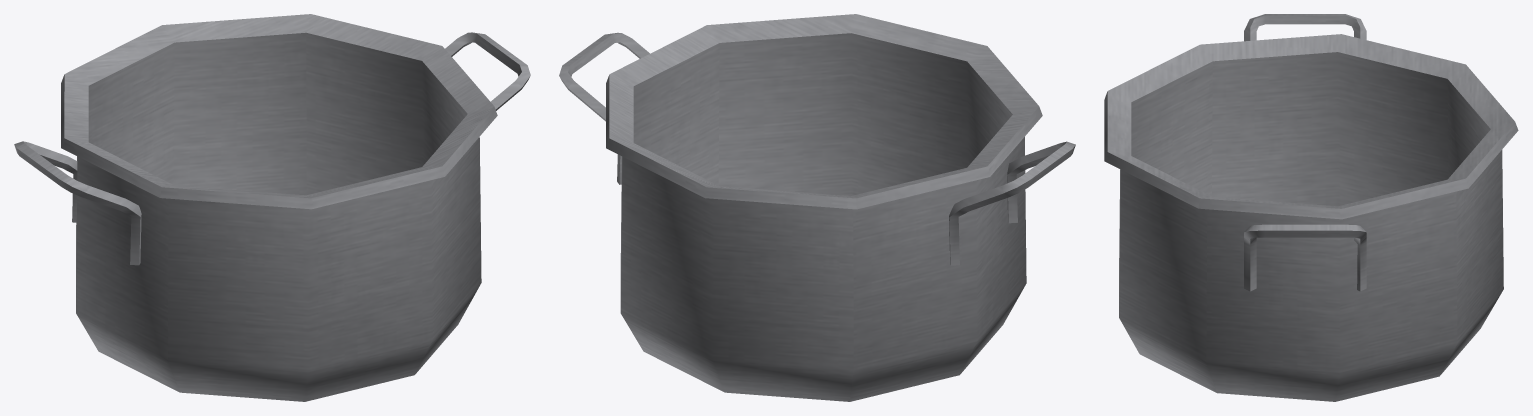
Rendered from Cooking_pot_02.glb.
3 renders of one model, left to right at view 1: azimuth 30°, elevation 25°; view 2: azimuth 150°, elevation 25°; view 3: azimuth 270°, elevation 25°, orthographic. The views are drawn at different scales.
Parts seen in each view (by area): view 1: Cooking_pot_02; view 2: Cooking_pot_02; view 3: Cooking_pot_02.
Part boxes in pixels (x1=…): Cooking_pot_02: x1=14, y1=14, x2=530, y2=401; Cooking_pot_02: x1=559, y1=14, x2=1075, y2=401; Cooking_pot_02: x1=1104, y1=14, x2=1518, y2=401.
Size of the model in its own units: 0.3488 by 0.1567 by 0.2818.
Materials: 1 (1 with a texture image).
